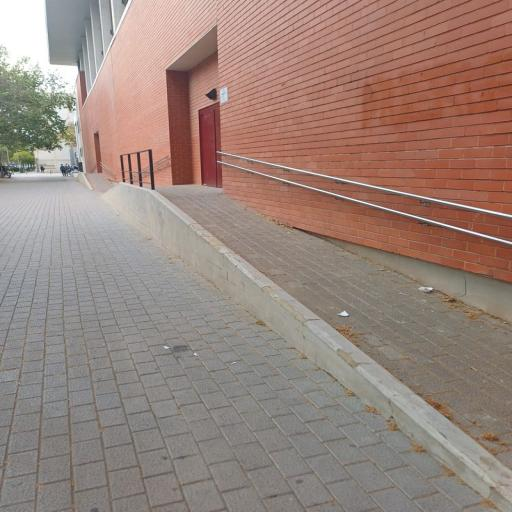child: (199, 104, 222, 188)
entrance: (110, 162, 511, 508)
glass_wall: (0, 177, 488, 512)
